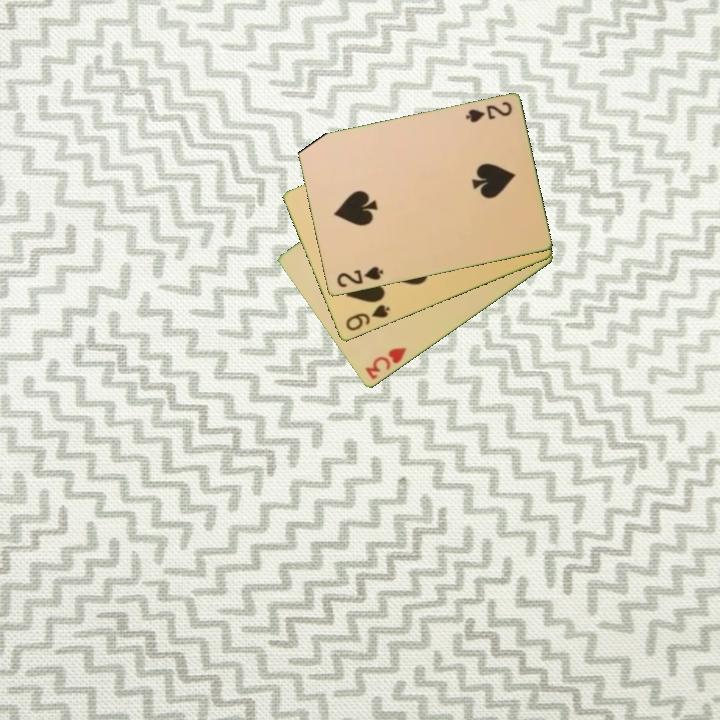2s: (333, 263, 386, 291), (462, 98, 515, 126)
3h: (362, 344, 410, 383)
9s: (342, 301, 393, 334)
